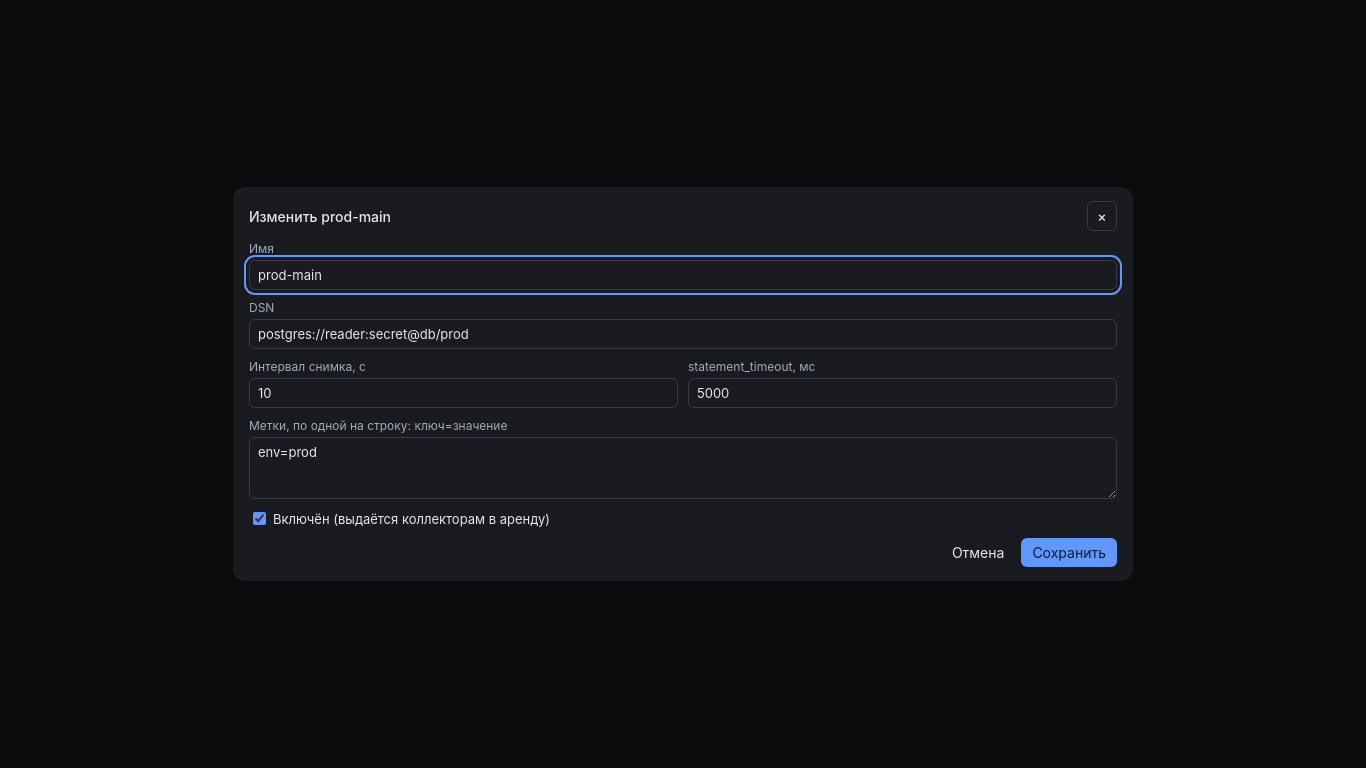
Test case: keeps edit draft on failed save: plain failure
Step 1. Click the button "Сохранить" → (1069, 552), box left=1021, top=538, right=1117, bottom=567
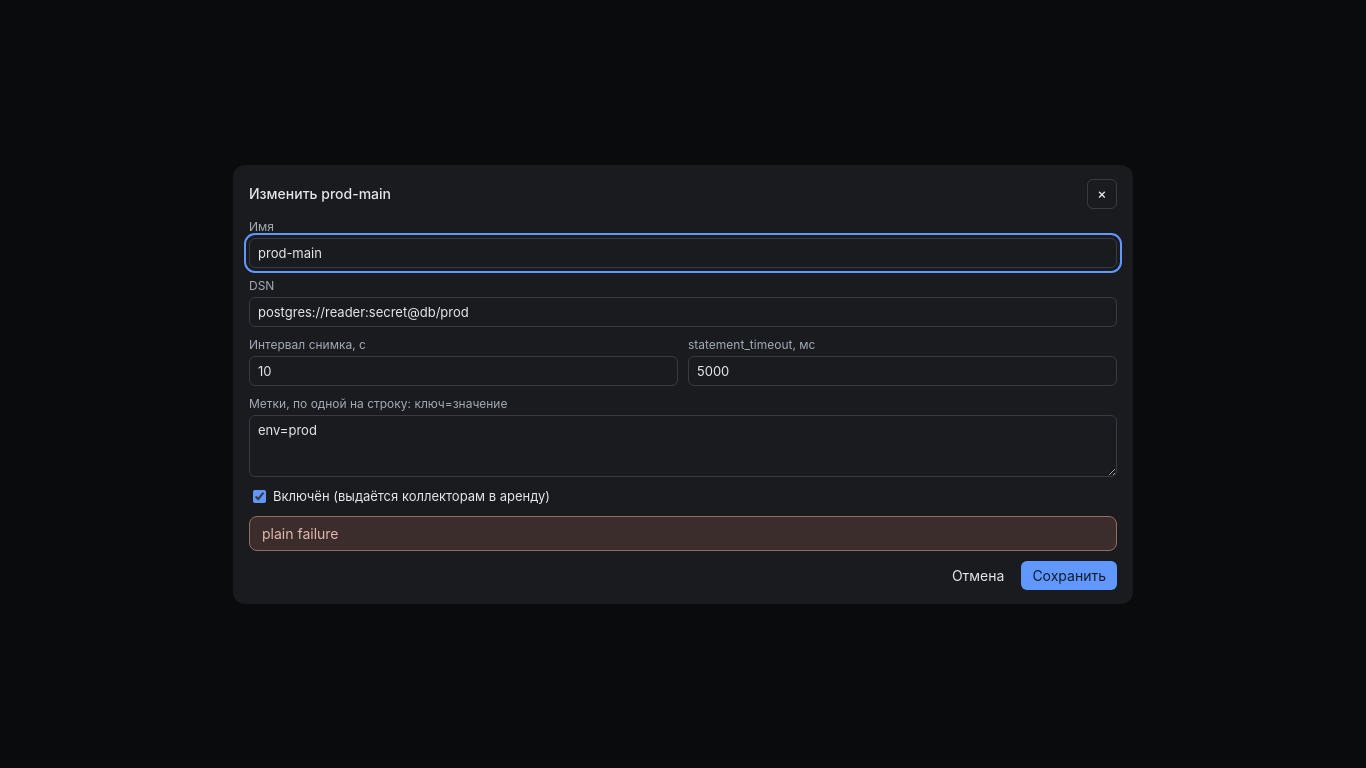
Expected: the field labelled "Имя" holds "prod-main", left=249, top=238, right=1117, bottom=268
Expected: the text "plain failure" is shown, left=249, top=516, right=1117, bottom=550
